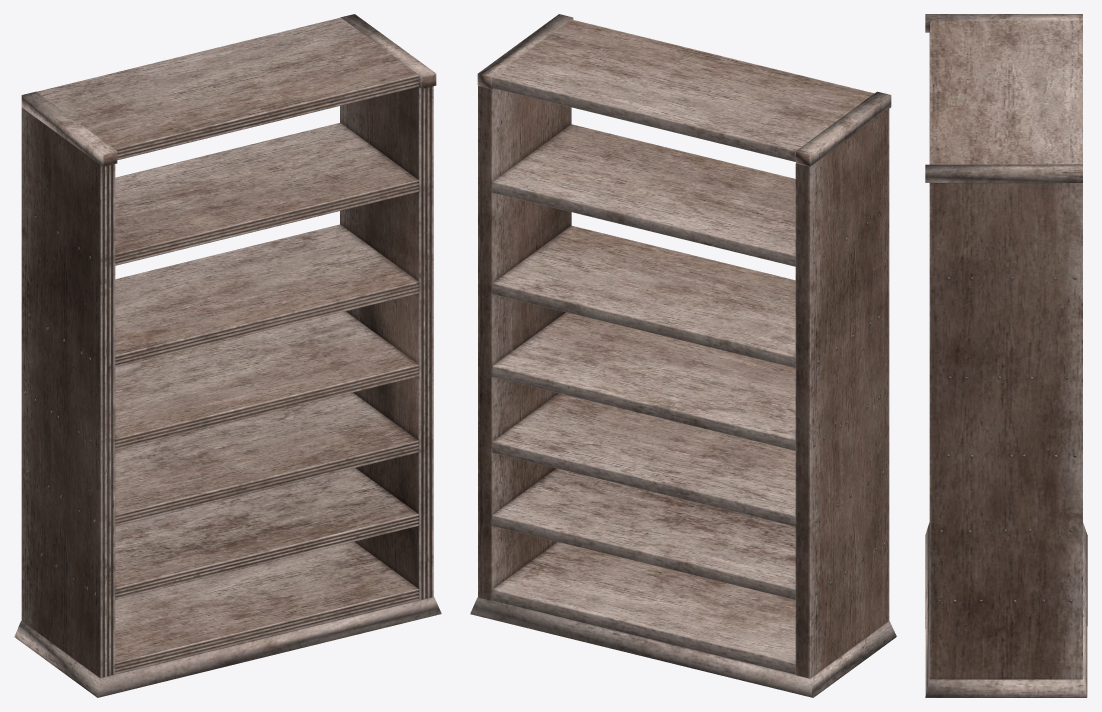
Rendered from wooden_bookshelf_worn.glb.
3 views of the same model, side by side, from view 1: azimuth 30°, elevation 25°; view 2: azimuth 150°, elevation 25°; view 3: azimuth 270°, elevation 25° (orthographic). The views are drawn at different scales.
Parts seen in each view (by area): view 1: wooden_bookshelf_worn; view 2: wooden_bookshelf_worn; view 3: wooden_bookshelf_worn.
Part boxes in pixels (x1,y1,x2,y2): wooden_bookshelf_worn: [14, 14, 441, 697]; wooden_bookshelf_worn: [470, 14, 896, 697]; wooden_bookshelf_worn: [925, 14, 1087, 697].
Bounding box in the file's own units: 1.37 × 2.06 × 0.5797.
1 material, 1 textured.
